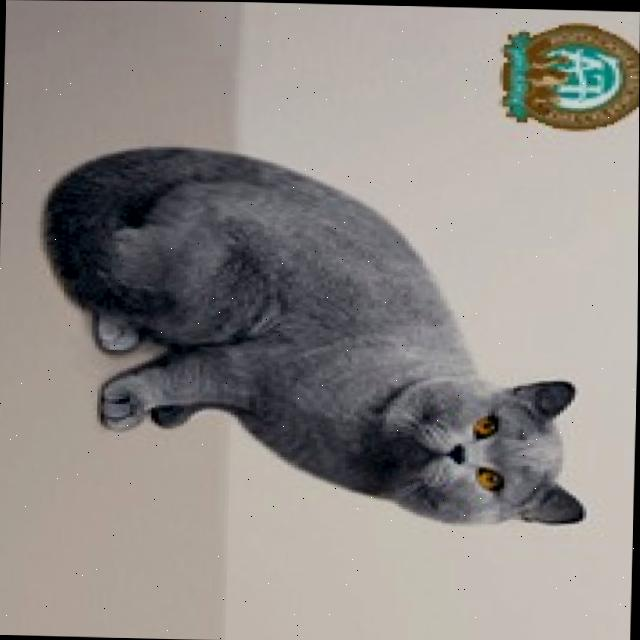British Shorthair: (28, 137, 603, 532)
